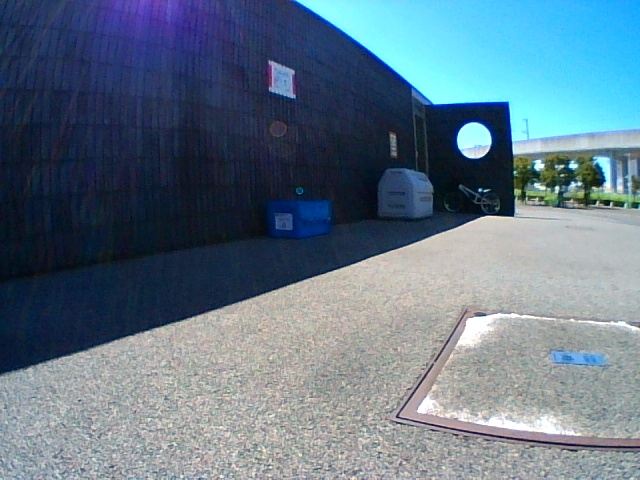blue_box: (268, 200, 330, 238)
tag: (275, 214, 292, 229)
